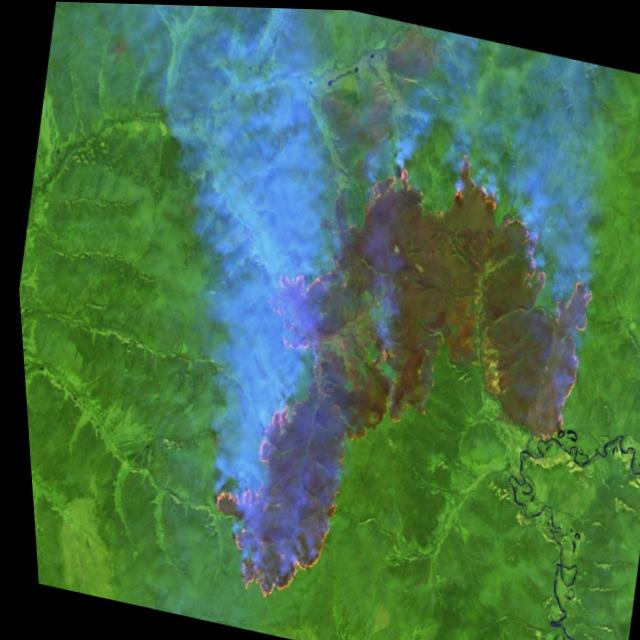fire: (161, 99, 634, 640)
